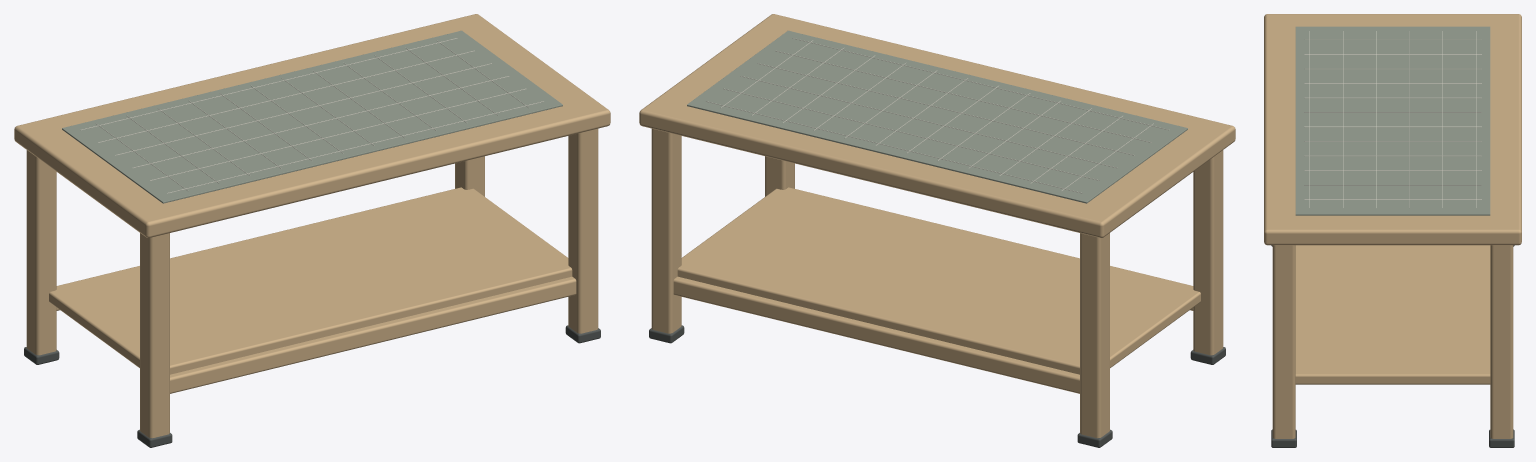
File: bookbinding-and-paper-mill-sheet-cutting-table-00353958__30560.glb
3 views of the same model, side by side, from view 1: azimuth 30°, elevation 25°; view 2: azimuth 150°, elevation 25°; view 3: azimuth 270°, elevation 25° (orthographic). The views are drawn at different scales.
Parts seen in each view (by area): view 1: sheet-cutting-table; view 2: sheet-cutting-table; view 3: sheet-cutting-table.
Part boxes in pixels (x1=…): sheet-cutting-table: x1=14, y1=14, x2=610, y2=447; sheet-cutting-table: x1=639, y1=14, x2=1235, y2=447; sheet-cutting-table: x1=1264, y1=14, x2=1521, y2=447.
Bounding box in the file's own units: 1.8 × 0.859 × 0.9001.
